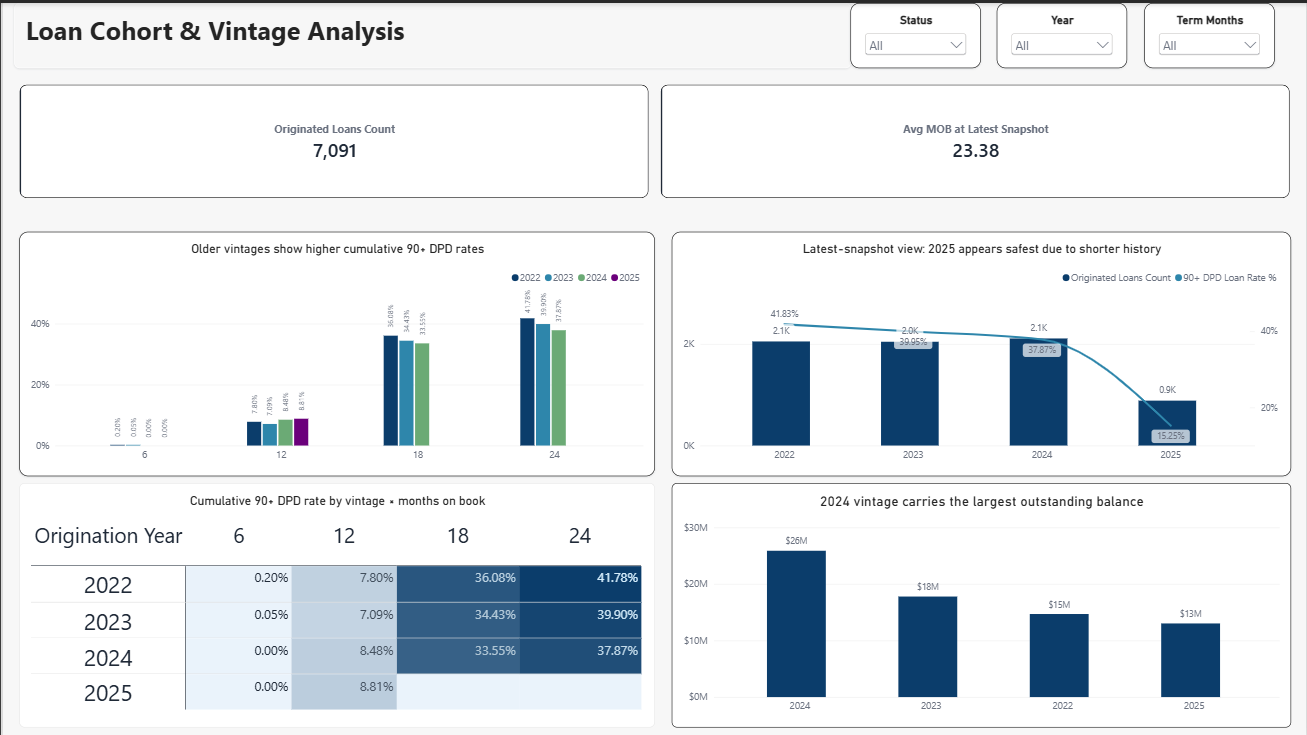

The dashboard page shown, as its layout file describes it:
{"tool":"powerbi","page":{"name":"Cohort and Vintage","canvas":[1920,1080],"ordinal":2},"visuals":[{"type":"textbox","box":[16,0,1232,96],"z":0},{"type":"slicer","title":"Year","fields":{"Values":["DimDate.Year"]},"box":[1464,0,192,96],"z":1000},{"type":"slicer","title":"Status","fields":{"Values":["FactLoanApplication.ApplicationStatus"]},"box":[1248,0,192,96],"z":2000},{"type":"cardVisual","fields":{"Data":["KPI_.Originated Loans Count","KPI_.Avg MOB at Latest Snapshot"]},"box":[24,120,1872,168],"z":3000},{"type":"slicer","title":"Term Months","fields":{"Values":["FactLoanApplication.TermMonths"]},"box":[1680,0,192,96],"z":4000},{"type":"clusteredColumnChart","title":"Older vintages show higher cumulative 90+ DPD rates","fields":{"Category":["FactLoanPerformance.MonthsOnBook"],"Series":["FactLoanApplication.Origination Year"],"Y":["KPI_.Cumulative 90+ DPD Rate by MOB %"]},"box":[24,336,936,360],"z":5000},{"type":"lineClusteredColumnComboChart","title":"Latest-snapshot view: 2025 appears safest due to shorter history","fields":{"Category":["FactLoanApplication.Origination Year"],"Y":["KPI_.Originated Loans Count"],"Y2":["KPI_.90+ DPD Loan Rate %"]},"box":[984,336,912,360],"z":6000},{"type":"pivotTable","title":"Cumulative 90+ DPD rate by vintage × months on book","fields":{"Columns":["FactLoanPerformance.MonthsOnBook"],"Rows":["FactLoanApplication.Origination Year"],"Values":["KPI_.Cumulative 90+ DPD Rate by MOB %"]},"box":[24,706,936,360],"z":7000},{"type":"clusteredColumnChart","title":"2024 vintage carries the largest outstanding balance","fields":{"Category":["FactLoanApplication.Origination Year"],"Y":["KPI_.Total Outstanding Balance"]},"box":[984,706,912,360],"z":7001}]}

Visuals, with their boxes in screenshot pixels (x1, y1, x2, y2), scaled from the page's 1920x1080 canvas onto the 1307x735 screenshot:
textbox: <box>11,0,850,65</box>
"Year" slicer: <box>997,0,1127,65</box>
"Status" slicer: <box>850,0,980,65</box>
cardVisual - KPI_.Originated Loans Count x KPI_.Avg MOB at Latest Snapshot: <box>16,82,1291,196</box>
"Term Months" slicer: <box>1144,0,1274,65</box>
"Older vintages show higher cumulative 90+ DPD rates" clusteredColumnChart: <box>16,229,654,474</box>
"Latest-snapshot view: 2025 appears safest due to shorter history" lineClusteredColumnComboChart: <box>670,229,1291,474</box>
"Cumulative 90+ DPD rate by vintage × months on book" pivotTable: <box>16,480,654,725</box>
"2024 vintage carries the largest outstanding balance" clusteredColumnChart: <box>670,480,1291,725</box>
